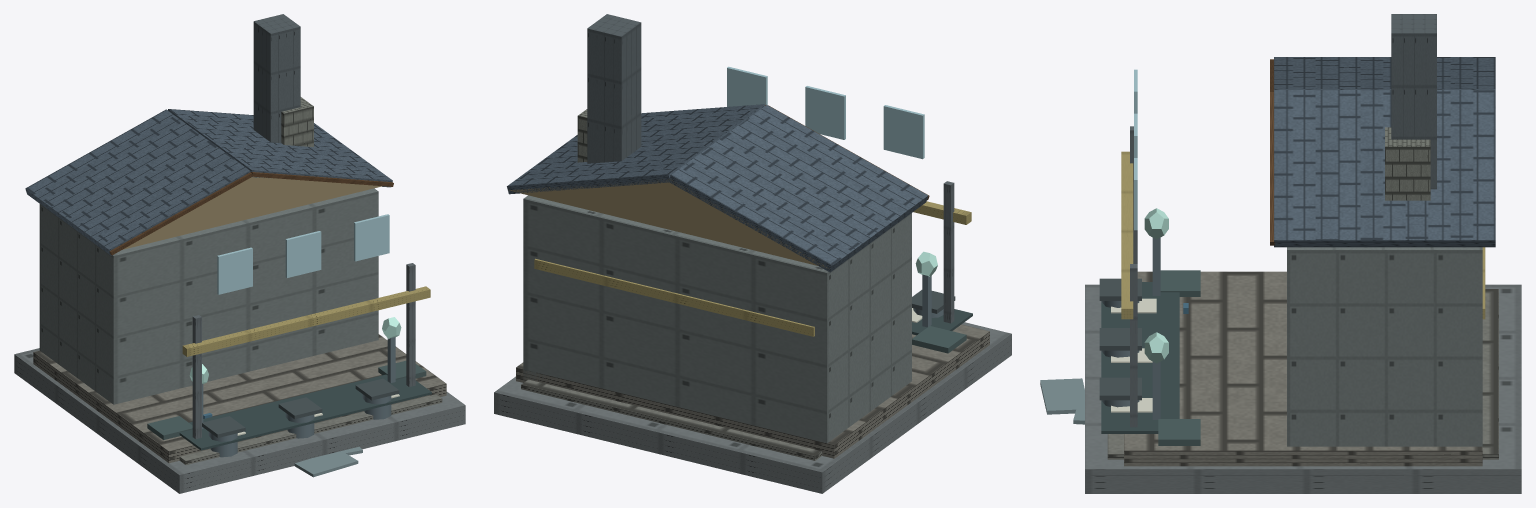
The model's file is procedural_airfield@6.glb.
The picture shows the model from 3 angles, left to right: view 1: azimuth 30°, elevation 25°; view 2: azimuth 150°, elevation 25°; view 3: azimuth 270°, elevation 25°; orthographic projection. The views are drawn at different scales.
Visible parts, largest first — view 1: part_1, part_2, part_0, part_27, part_3, part_28, part_5, part_33, part_24, part_4, part_30, part_29 (+9 smaller); view 2: part_1, part_2, part_27, part_3, part_28, part_0, part_24, part_32, part_29, part_30, part_25, part_31 (+4 smaller); view 3: part_1, part_2, part_0, part_27, part_28, part_5, part_24, part_34, part_33, part_11, part_26, part_19 (+9 smaller).
Part boxes in pixels (x1=…): part_1: x1=39, y1=188, x2=378, y2=404; part_2: x1=25, y1=109, x2=392, y2=255; part_0: x1=33, y1=334, x2=446, y2=463; part_27: x1=14, y1=348, x2=465, y2=493; part_3: x1=123, y1=176, x2=381, y2=249; part_28: x1=253, y1=14, x2=300, y2=142; part_5: x1=179, y1=374, x2=431, y2=450; part_33: x1=182, y1=286, x2=430, y2=356; part_24: x1=179, y1=394, x2=442, y2=464; part_4: x1=109, y1=172, x2=393, y2=255; part_30: x1=285, y1=231, x2=321, y2=277; part_29: x1=217, y1=247, x2=252, y2=294; part_1: x1=523, y1=195, x2=911, y2=443; part_2: x1=507, y1=104, x2=928, y2=272; part_27: x1=494, y1=322, x2=1011, y2=493; part_3: x1=508, y1=179, x2=829, y2=268; part_28: x1=587, y1=14, x2=641, y2=163; part_0: x1=516, y1=324, x2=989, y2=458; part_24: x1=521, y1=379, x2=822, y2=460; part_32: x1=534, y1=258, x2=814, y2=336; part_29: x1=883, y1=105, x2=924, y2=159; part_30: x1=805, y1=86, x2=845, y2=139; part_25: x1=943, y1=181, x2=954, y2=323; part_31: x1=727, y1=66, x2=767, y2=106; part_1: x1=1287, y1=247, x2=1482, y2=446; part_2: x1=1274, y1=57, x2=1495, y2=247; part_0: x1=1124, y1=271, x2=1482, y2=466; part_27: x1=1085, y1=284, x2=1521, y2=493; part_28: x1=1391, y1=14, x2=1436, y2=189; part_5: x1=1101, y1=282, x2=1179, y2=433; part_24: x1=1107, y1=289, x2=1498, y2=459; part_34: x1=1385, y1=127, x2=1430, y2=200; part_33: x1=1121, y1=151, x2=1133, y2=319; part_11: x1=1040, y1=378, x2=1084, y2=414; part_26: x1=1130, y1=264, x2=1137, y2=427; part_19: x1=1158, y1=419, x2=1200, y2=445.
Size of the model in its own units: 6.7 by 7.26 by 7.39.
21 materials, 11 textured.
